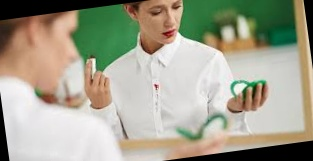lipstick: (153, 82, 162, 98)
